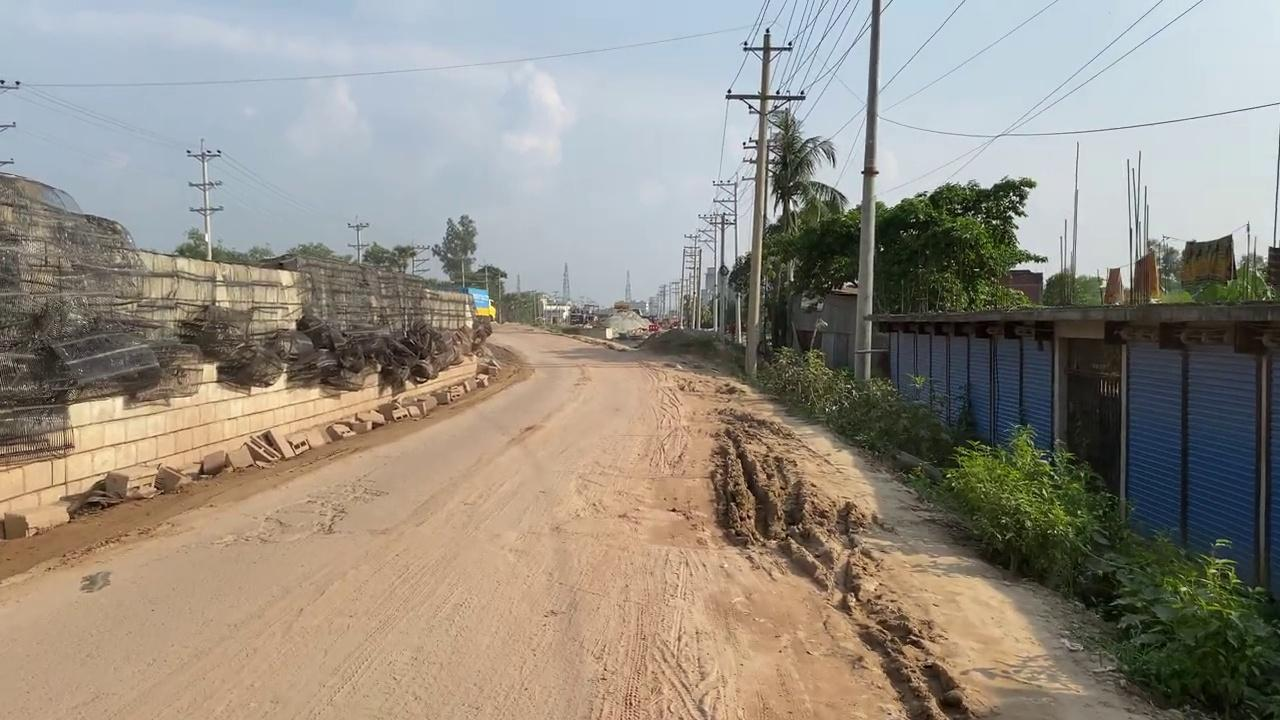Pole: (724, 28, 804, 378), (853, 0, 881, 383)
Rickshaw: (675, 358, 1182, 718)
Traffic-sign: (431, 213, 478, 289)
Tree: (540, 297, 599, 328), (604, 301, 650, 340), (461, 285, 496, 321), (539, 294, 571, 326)
Upstairs: (0, 170, 491, 526)
